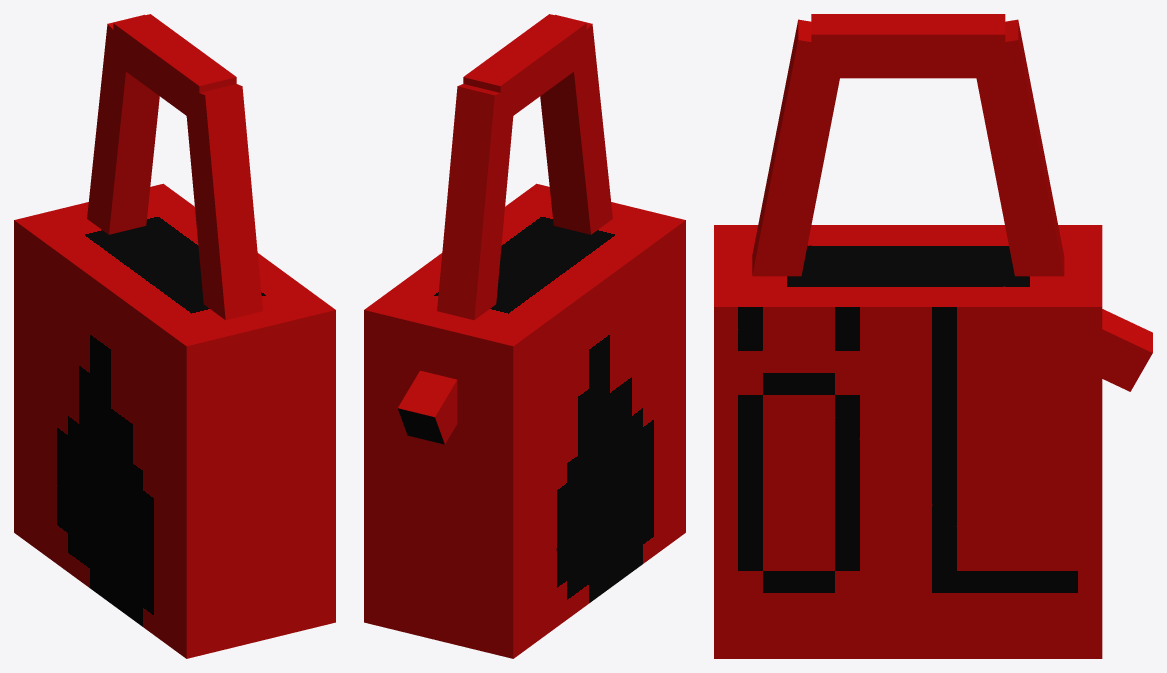
File: barrel-fuel.glb
3 views of the same model, side by side, from view 1: azimuth 30°, elevation 25°; view 2: azimuth 150°, elevation 25°; view 3: azimuth 270°, elevation 25° (orthographic). The views are drawn at different scales.
Visible parts, largest first — view 1: mesh (×4); view 2: mesh (×5); view 3: mesh (×5).
Boxes of the visible parts, <box> form: mesh (×4): <box>14,14,335,658</box>; mesh (×5): <box>364,14,685,658</box>; mesh (×5): <box>714,14,1152,658</box>.
Bounding box in the file's own units: 0.5 × 1.69 × 1.13.
Materials: 1 (1 with a texture image).
